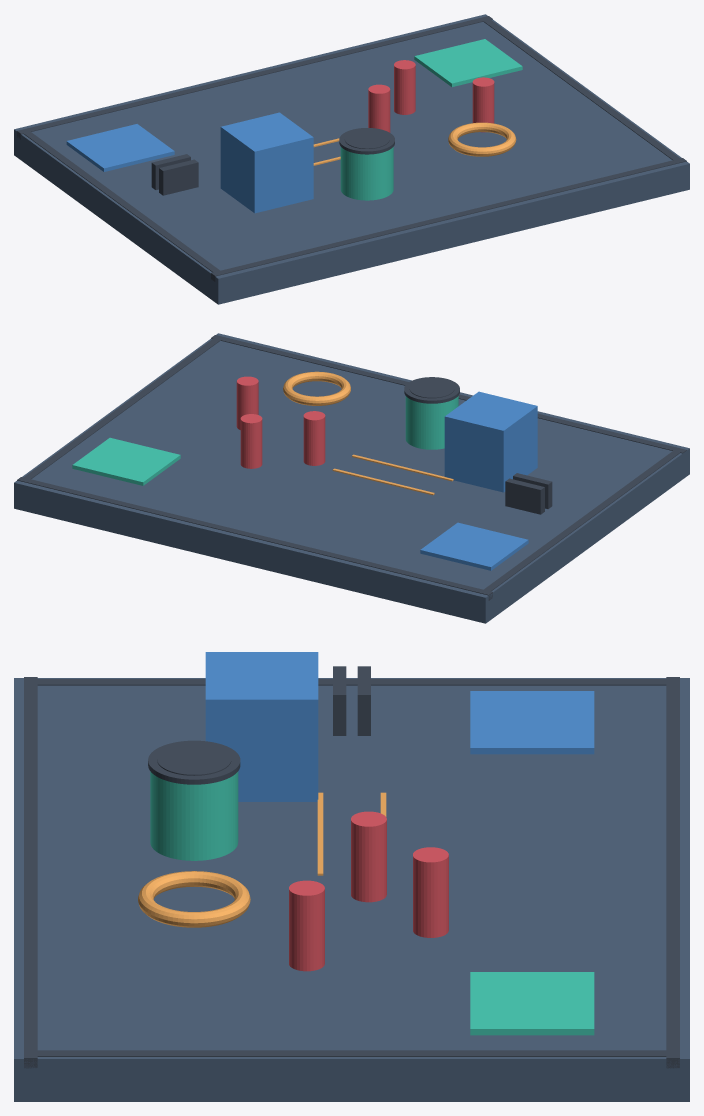
File: bench_visual.glb
3 renders of one model, top to bottom at view 1: azimuth 30°, elevation 25°; view 2: azimuth 150°, elevation 25°; view 3: azimuth 270°, elevation 25°, orthographic. The views are drawn at different scales.
Parts seen in each view (by area): view 1: tabletop_visual, cube_skill_object, blue_start_pad, teal_goal_pad, mug_shell, side_rail_0.285, side_rail_-0.285, end_rail_0.39, end_rail_-0.39, fragile_ring_visual, obstacle_peg_visual_2, pusher_finger_-0.011 (+5 smaller); view 2: tabletop_visual, cube_skill_object, teal_goal_pad, blue_start_pad, side_rail_0.285, mug_shell, side_rail_-0.285, end_rail_0.39, end_rail_-0.39, fragile_ring_visual, obstacle_peg_visual_1, obstacle_peg_visual_2 (+5 smaller); view 3: tabletop_visual, cube_skill_object, blue_start_pad, teal_goal_pad, mug_shell, side_rail_0.285, side_rail_-0.285, end_rail_0.39, fragile_ring_visual, end_rail_-0.39, obstacle_peg_visual_3, obstacle_peg_visual_1 (+5 smaller).
Boxes of the visible parts, x1,y1,x2,y2 form: tabletop_visual: [14, 14, 689, 304]; cube_skill_object: [220, 112, 313, 213]; blue_start_pad: [66, 124, 174, 171]; teal_goal_pad: [414, 39, 522, 86]; mug_shell: [340, 147, 393, 200]; side_rail_0.285: [17, 16, 492, 139]; side_rail_-0.285: [211, 158, 686, 281]; end_rail_0.39: [480, 16, 683, 162]; end_rail_-0.39: [20, 130, 223, 274]; fragile_ring_visual: [448, 122, 516, 156]; obstacle_peg_visual_2: [394, 60, 415, 114]; pusher_finger_-0.011: [159, 159, 198, 195]; tabletop_visual: [14, 333, 689, 623]; cube_skill_object: [444, 391, 537, 492]; teal_goal_pad: [72, 437, 180, 485]; blue_start_pad: [420, 522, 528, 570]; side_rail_0.285: [17, 477, 492, 600]; mug_shell: [405, 396, 458, 449]; side_rail_-0.285: [211, 335, 686, 453]; end_rail_0.39: [20, 335, 223, 481]; end_rail_-0.39: [480, 448, 683, 593]; fragile_ring_visual: [283, 371, 350, 405]; obstacle_peg_visual_1: [303, 411, 325, 465]; obstacle_peg_visual_2: [240, 414, 262, 468]; tabletop_visual: [14, 678, 689, 1101]; cube_skill_object: [205, 652, 318, 801]; blue_start_pad: [470, 691, 594, 754]; teal_goal_pad: [470, 972, 594, 1035]; mug_shell: [150, 771, 238, 860]; side_rail_0.285: [666, 677, 679, 1068]; side_rail_-0.285: [24, 677, 37, 1068]; end_rail_0.39: [25, 1050, 678, 1056]; fragile_ring_visual: [138, 871, 250, 927]; end_rail_-0.39: [25, 679, 678, 685]; obstacle_peg_visual_3: [289, 880, 324, 971]; obstacle_peg_visual_1: [351, 811, 386, 902].
Size of the model in its own units: 0.8 by 0.142 by 0.6.
